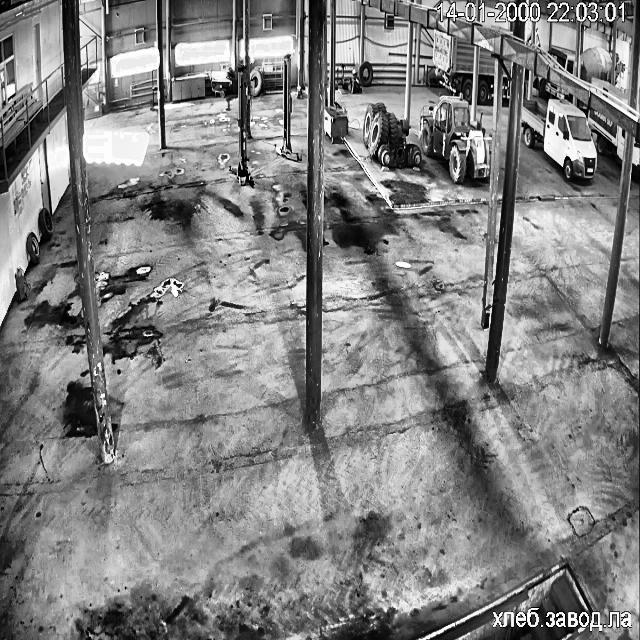class6: (420, 96, 489, 182), (362, 102, 420, 166)
class7: (521, 100, 596, 179), (432, 28, 473, 100), (588, 108, 624, 160), (580, 46, 610, 83), (477, 46, 494, 102), (593, 80, 628, 102), (536, 77, 571, 98), (548, 45, 574, 73), (632, 140, 640, 179), (498, 73, 509, 99), (504, 60, 511, 75), (616, 61, 621, 76)
tractor: (16, 268, 26, 300)
truck: (230, 67, 253, 186), (275, 53, 300, 161)
